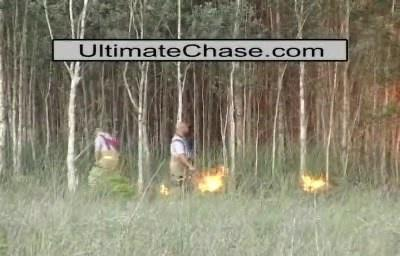fire: (301, 169, 336, 198), (194, 168, 226, 197), (157, 182, 169, 195)
